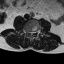CCS_normal: (30, 30, 32, 37)
LFS_normal: (34, 29, 36, 34)
LLS_normal: (32, 29, 34, 36)
RFS_stenosis: (27, 29, 29, 35)
RLS_severe_stenosis: (29, 30, 30, 35)
